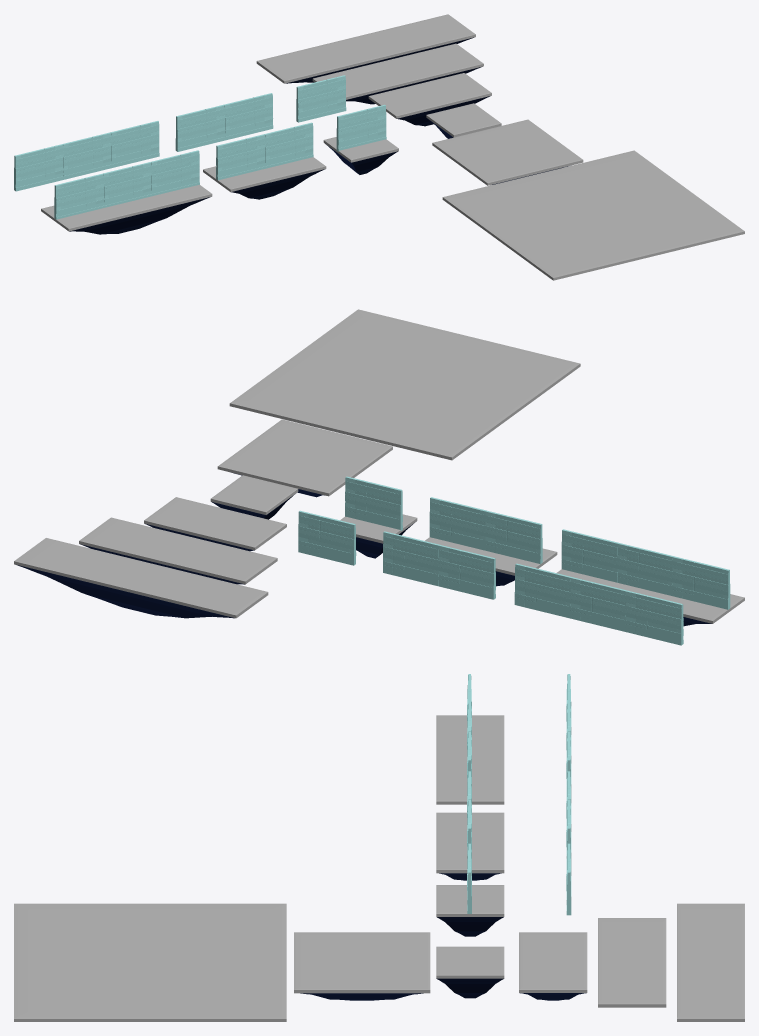
Rendered from Platform_and_walls_tileset.fbx.
3 renders of one model, top to bottom at view 1: azimuth 30°, elevation 25°; view 2: azimuth 150°, elevation 25°; view 3: azimuth 270°, elevation 25°, orthographic. The views are drawn at different scales.
Visible parts, largest first — view 1: Platform Square 28x28, Platform Rectangle 28x7, Platform Square 14x14, Platform Rectangle 21x7, Platform Rectangle 21x7.001, Platform Rectangle 14x7, Platform Rectangle 14x7.001, Ice wall.003, Ice wall.011, Ice wall.008, Ice wall.009, Ice wall.010 (+9 smaller); view 2: Platform Square 28x28, Platform Rectangle 28x7, Platform Square 14x14, Platform Rectangle 21x7, Platform Rectangle 14x7, Ice wall.011, Ice wall.003, Ice wall.008, Ice wall.007, Ice wall.009, Ice wall.004, Ice wall (+9 smaller); view 3: Platform Square 28x28, Platform Square 14x14, Platform Rectangle 28x7, Platform Rectangle 21x7, Platform Rectangle 21x7.001, Platform Rectangle 14x7, Platform Rectangle 14x7.001, Platform Square 7x7, Platform for Icew Wall.
Boxes of the visible parts, x1,y1,x2,y2 form: Platform Square 28x28: (442, 150, 744, 280); Platform Rectangle 28x7: (256, 14, 475, 83); Platform Square 14x14: (432, 119, 583, 185); Platform Rectangle 21x7: (312, 43, 483, 104); Platform Rectangle 21x7.001: (41, 185, 212, 234); Platform Rectangle 14x7: (368, 73, 491, 126); Platform Rectangle 14x7.001: (203, 157, 326, 199); Ice wall.003: (296, 75, 346, 122); Ice wall.011: (14, 144, 63, 191); Ice wall.008: (175, 104, 225, 151); Ice wall.009: (110, 121, 159, 167); Ice wall.010: (63, 132, 111, 179); Platform Square 28x28: (229, 309, 580, 460); Platform Rectangle 28x7: (14, 538, 268, 618); Platform Square 14x14: (217, 419, 392, 497); Platform Rectangle 21x7: (79, 517, 277, 584); Platform Rectangle 14x7: (144, 497, 286, 551); Ice wall.011: (625, 590, 683, 645); Ice wall.003: (298, 510, 356, 565); Ice wall.008: (438, 545, 495, 599); Ice wall.007: (672, 556, 730, 609); Ice wall.009: (514, 563, 571, 618); Ice wall.004: (383, 531, 439, 586); Ice wall: (345, 476, 402, 530); Platform Square 28x28: (14, 903, 286, 1021); Platform Square 14x14: (294, 932, 430, 1000); Platform Rectangle 28x7: (677, 903, 744, 1021); Platform Rectangle 21x7: (598, 918, 666, 1007); Platform Rectangle 21x7.001: (436, 715, 504, 804); Platform Rectangle 14x7: (519, 932, 587, 1000); Platform Rectangle 14x7.001: (436, 812, 504, 880); Platform Square 7x7: (436, 946, 504, 998); Platform for Icew Wall: (436, 885, 504, 936).
Bounding box in the file's own units: 7375 × 867 × 7507.
